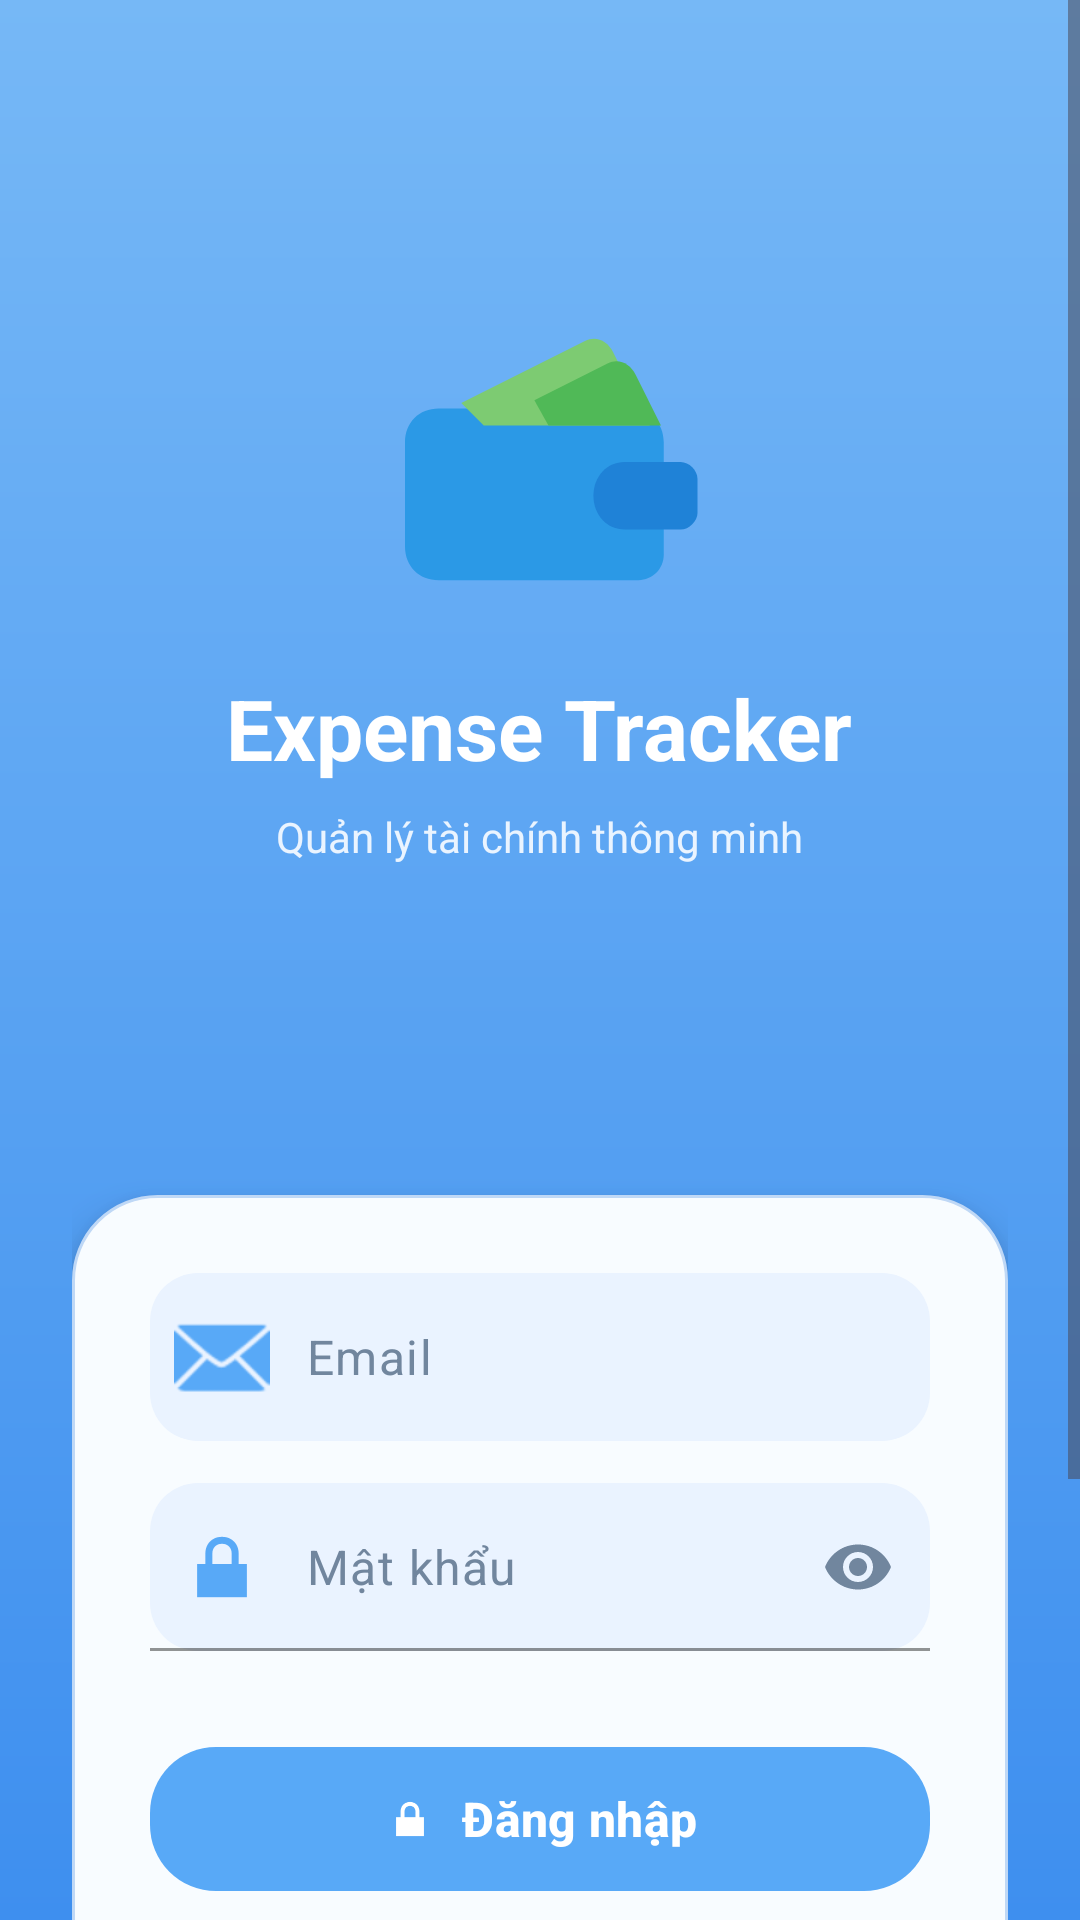

Named icons in this screenshot (1080px x 1920px) and their centers, [x,y]:
wallet: [551,459]
